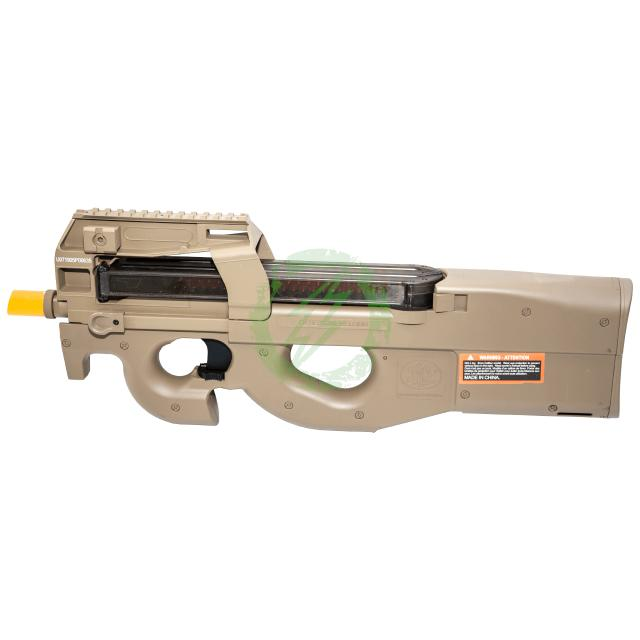SMG: (8, 208, 635, 435)
